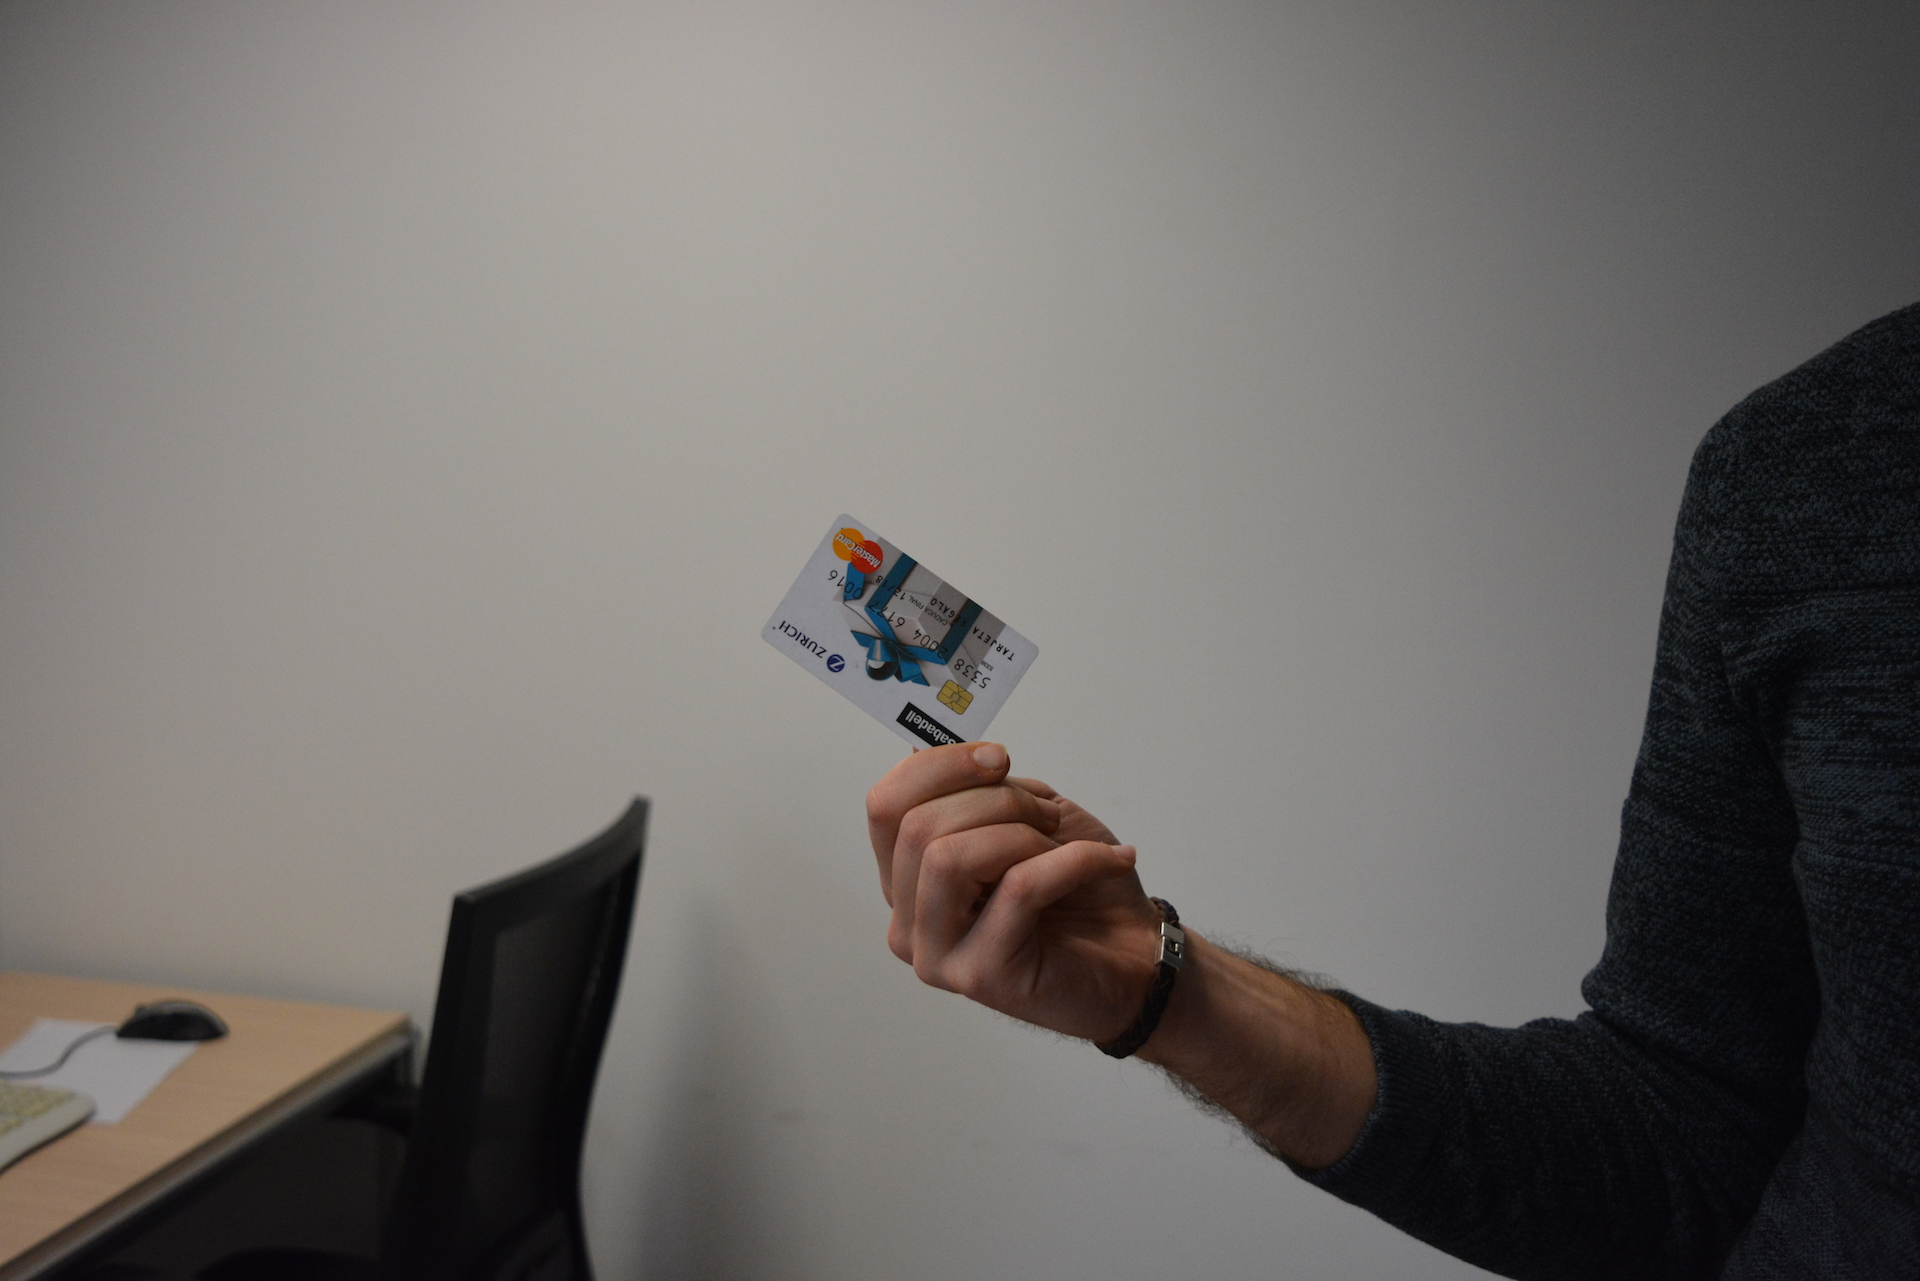tarjeta: (761, 513, 1041, 753)
